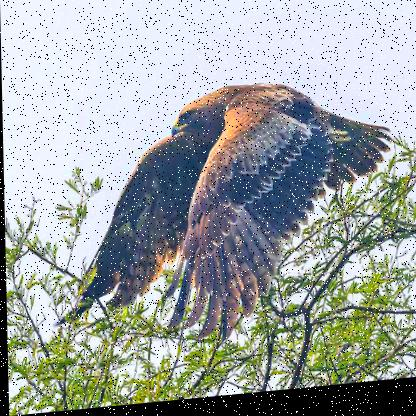Burung: (49, 76, 392, 355)
